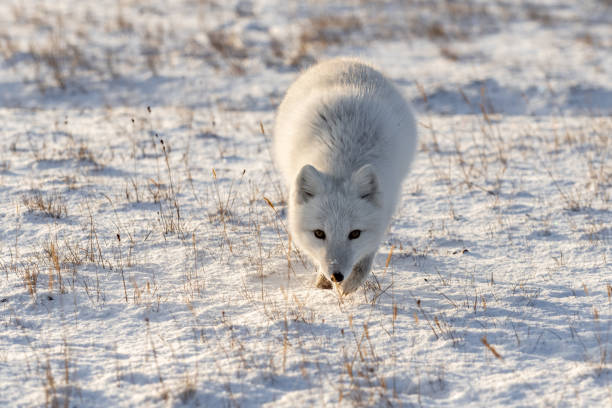arcticfox: (297, 184, 381, 292)
